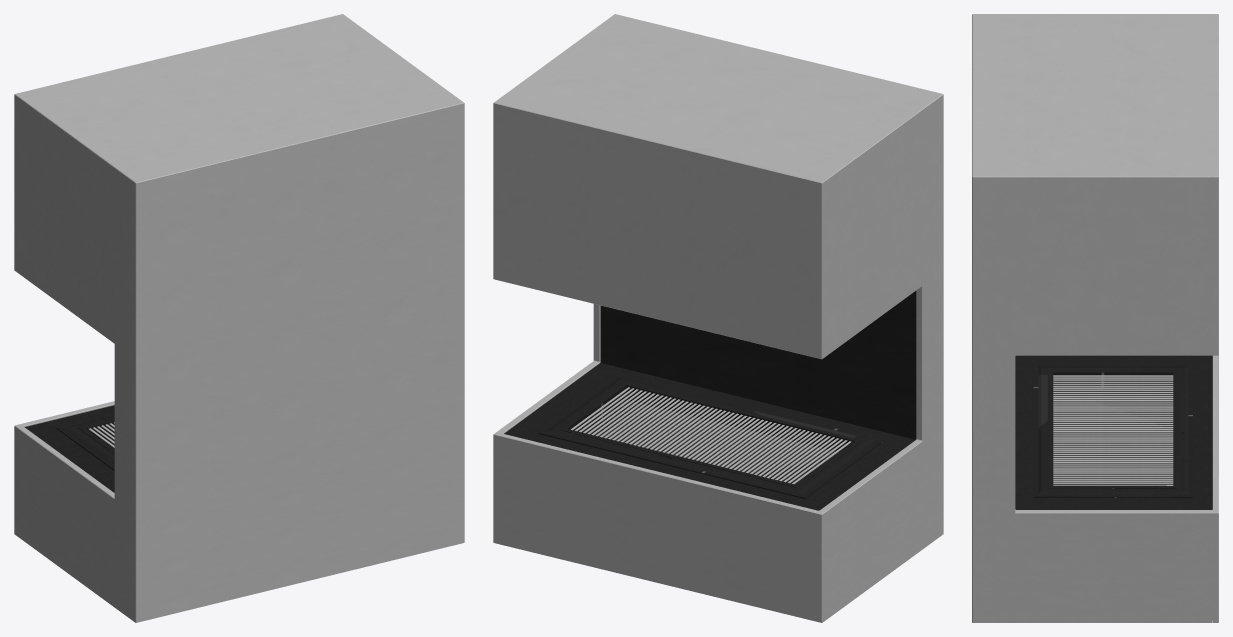
Rendered from Kaestner.fbx.
The picture shows the model from 3 angles, left to right: view 1: azimuth 30°, elevation 25°; view 2: azimuth 150°, elevation 25°; view 3: azimuth 270°, elevation 25°; orthographic projection.
Parts seen in each view (by area): view 1: Cube.024; view 2: Cube.024; view 3: Cube.024.
Part boxes in pixels (left/top/right/bottom): Cube.024: left=14, top=14, right=464, bottom=622; Cube.024: left=493, top=14, right=943, bottom=622; Cube.024: left=972, top=14, right=1218, bottom=622.
Size of the model in its own units: 110 by 141 by 70.55.
Materials: 2 (2 with a texture image).
